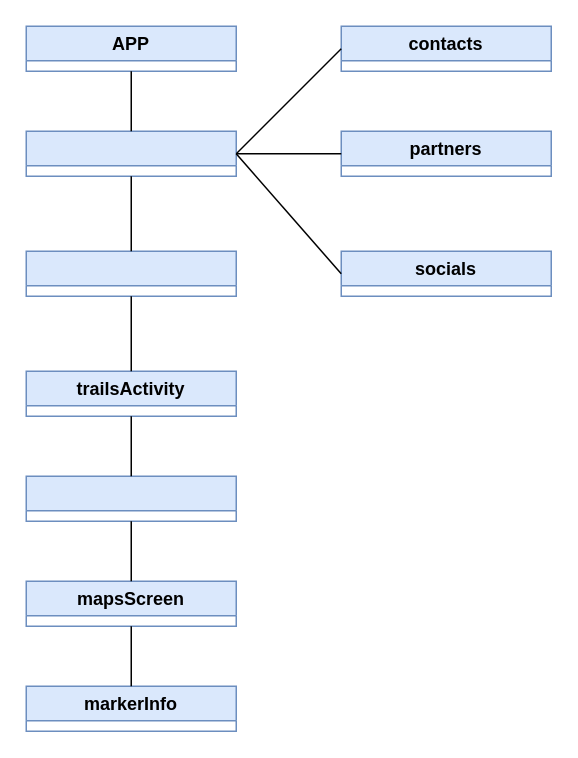
Image size: 578x758. Some labels were removed from this diagram. The centre of each missing label's shape, as x and y in pixels:
"login" goes at (130,273).
"pagina-inicial" goes at (130,153).
"trailInfo" goes at (130,498).
